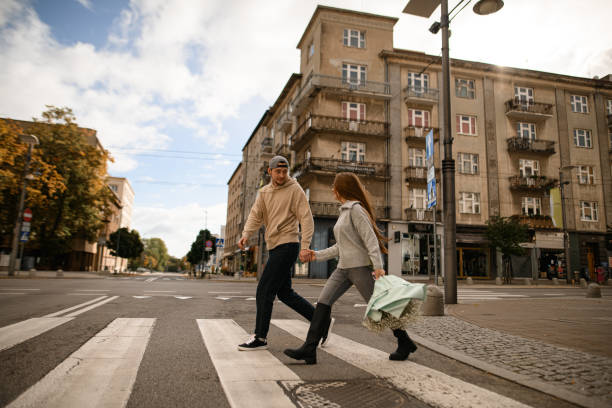yaya: (313, 165, 428, 383), (236, 135, 309, 378)
